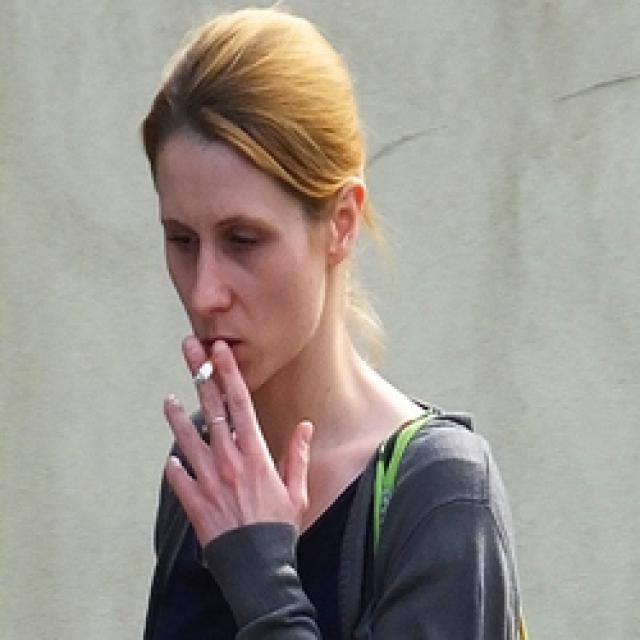Smooking: (187, 347, 224, 388)
